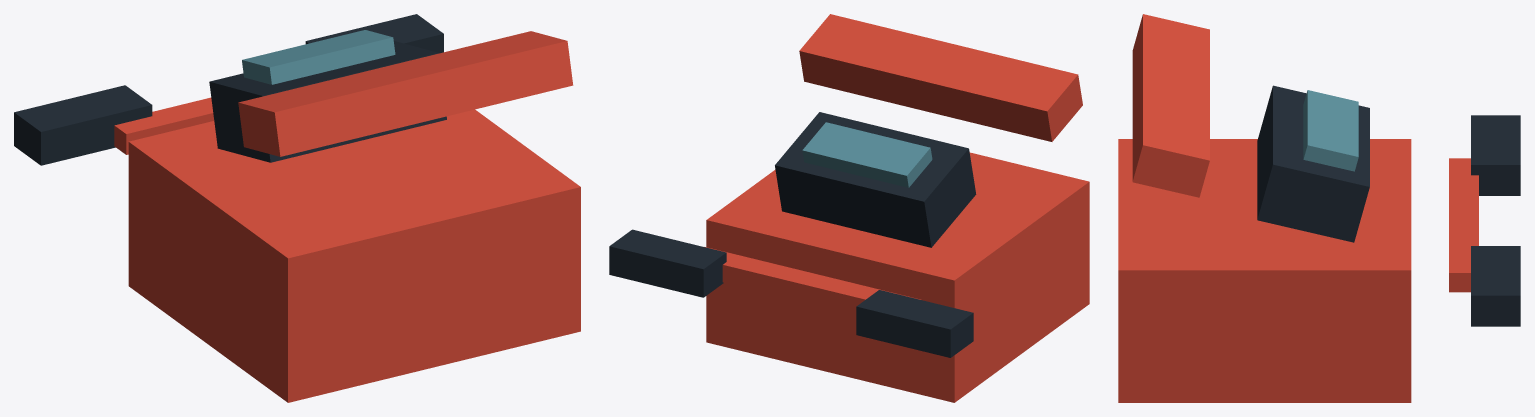
Rendered from chixiao.glb.
3 renders of one model, left to right at view 1: azimuth 30°, elevation 25°; view 2: azimuth 150°, elevation 25°; view 3: azimuth 270°, elevation 25°, orthographic. The views are drawn at different scales.
Visible parts, largest first — view 1: front_cowl, windscreen_lower_edge, grip, cluster_housing, display, bar, grip.001; view 2: front_cowl, windscreen_lower_edge, cluster_housing, grip, grip.001, display, bar.001, bar; view 3: front_cowl, windscreen_lower_edge, cluster_housing, grip.001, display, grip, bar.001, bar.
Part boxes in pixels (left/top/right/bottom): front_cowl: left=128, top=109, right=580, bottom=402; windscreen_lower_edge: left=238, top=31, right=573, bottom=156; grip: left=14, top=85, right=152, bottom=165; cluster_housing: left=209, top=41, right=446, bottom=162; display: left=242, top=30, right=395, bottom=84; bar: left=114, top=97, right=214, bottom=154; grip.001: left=305, top=14, right=443, bottom=53; front_cowl: left=706, top=152, right=1089, bottom=402; windscreen_lower_edge: left=799, top=14, right=1082, bottom=141; cluster_housing: left=775, top=112, right=976, bottom=247; grip: left=856, top=290, right=973, bottom=357; grip.001: left=609, top=229, right=726, bottom=297; display: left=802, top=122, right=932, bottom=187; bar.001: left=705, top=247, right=815, bottom=301; bar: left=794, top=272, right=921, bottom=314; front_cowl: left=1118, top=139, right=1411, bottom=402; windscreen_lower_edge: left=1132, top=14, right=1209, bottom=197; cluster_housing: left=1257, top=85, right=1369, bottom=242; grip.001: left=1471, top=246, right=1520, bottom=326; display: left=1303, top=90, right=1358, bottom=171; grip: left=1471, top=115, right=1520, bottom=195; bar.001: left=1449, top=213, right=1478, bottom=292; bar: left=1449, top=158, right=1478, bottom=212.
Size of the model in its own units: 0.525 by 0.3497 by 0.4945.
